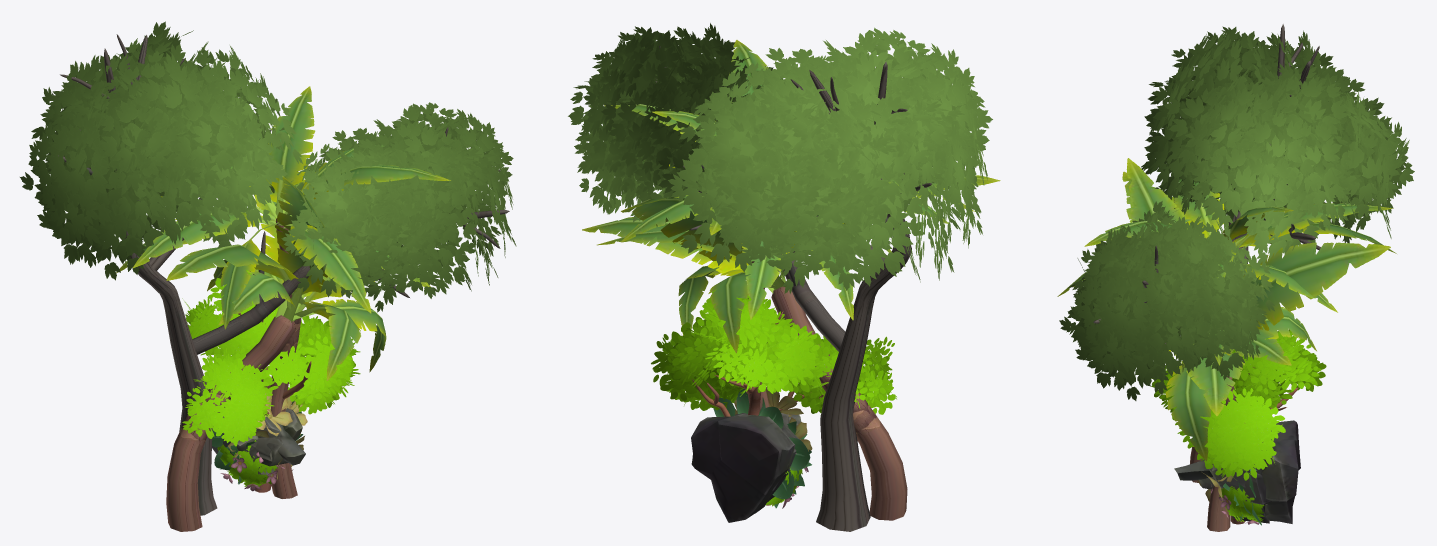
Rendered from cay.glb.
The picture shows the model from 3 angles, left to right: view 1: azimuth 30°, elevation 25°; view 2: azimuth 150°, elevation 25°; view 3: azimuth 270°, elevation 25°; orthographic projection. The views are drawn at different scales.
Visible parts, largest first — view 1: cay_tan_la, cay_tan2_la, cau2_la, cau_la, cay_tan_than, cau2_than, da2_than, cau_than, chau_la, bui_la, da_than; view 2: cay_tan_la, cay_tan2_la, cay_tan_than, da2_than, cau2_la, cau2_than, cau_la, chau_la, cay_tan2_than; view 3: cay_tan_la, cau2_la, cay_tan2_la, cau_la, da2_than, cay_tan_than, da_than, cau_than, bui_la.
Boxes of the visible parts, left/top/right/bottom form: cay_tan_la: left=20, top=21, right=516, bottom=312; cay_tan2_la: left=182, top=270, right=360, bottom=446; cau2_la: left=166, top=131, right=386, bottom=380; cau_la: left=116, top=86, right=450, bottom=329; cay_tan_than: left=58, top=34, right=509, bottom=515; cau2_than: left=166, top=315, right=296, bottom=531; da2_than: left=206, top=379, right=305, bottom=465; cau_than: left=269, top=218, right=301, bottom=498; chau_la: left=212, top=392, right=307, bottom=479; bui_la: left=218, top=440, right=277, bottom=487; da_than: left=220, top=432, right=287, bottom=475; cay_tan_la: left=568, top=23, right=992, bottom=293; cay_tan2_la: left=651, top=289, right=896, bottom=415; cay_tan_than: left=655, top=46, right=931, bottom=531; da2_than: left=691, top=413, right=801, bottom=522; cau2_la: left=582, top=175, right=1000, bottom=353; cau2_than: left=771, top=286, right=907, bottom=520; cau_la: left=597, top=40, right=974, bottom=320; chau_la: left=713, top=388, right=812, bottom=499; cay_tan2_than: left=692, top=311, right=823, bottom=505; cay_tan_la: left=1059, top=26, right=1414, bottom=400; cau2_la: left=1122, top=158, right=1390, bottom=461; cay_tan2_la: left=1151, top=329, right=1326, bottom=480; cau_la: left=1057, top=179, right=1396, bottom=365; da2_than: left=1174, top=420, right=1300, bottom=523; cay_tan_than: left=1093, top=24, right=1320, bottom=365; da_than: left=1197, top=460, right=1271, bottom=523; cau_than: left=1207, top=376, right=1236, bottom=531; bui_la: left=1219, top=486, right=1261, bottom=521.
Bounding box in the file's own units: 6.23 × 6.64 × 4.95.
8 materials, 8 textured.
